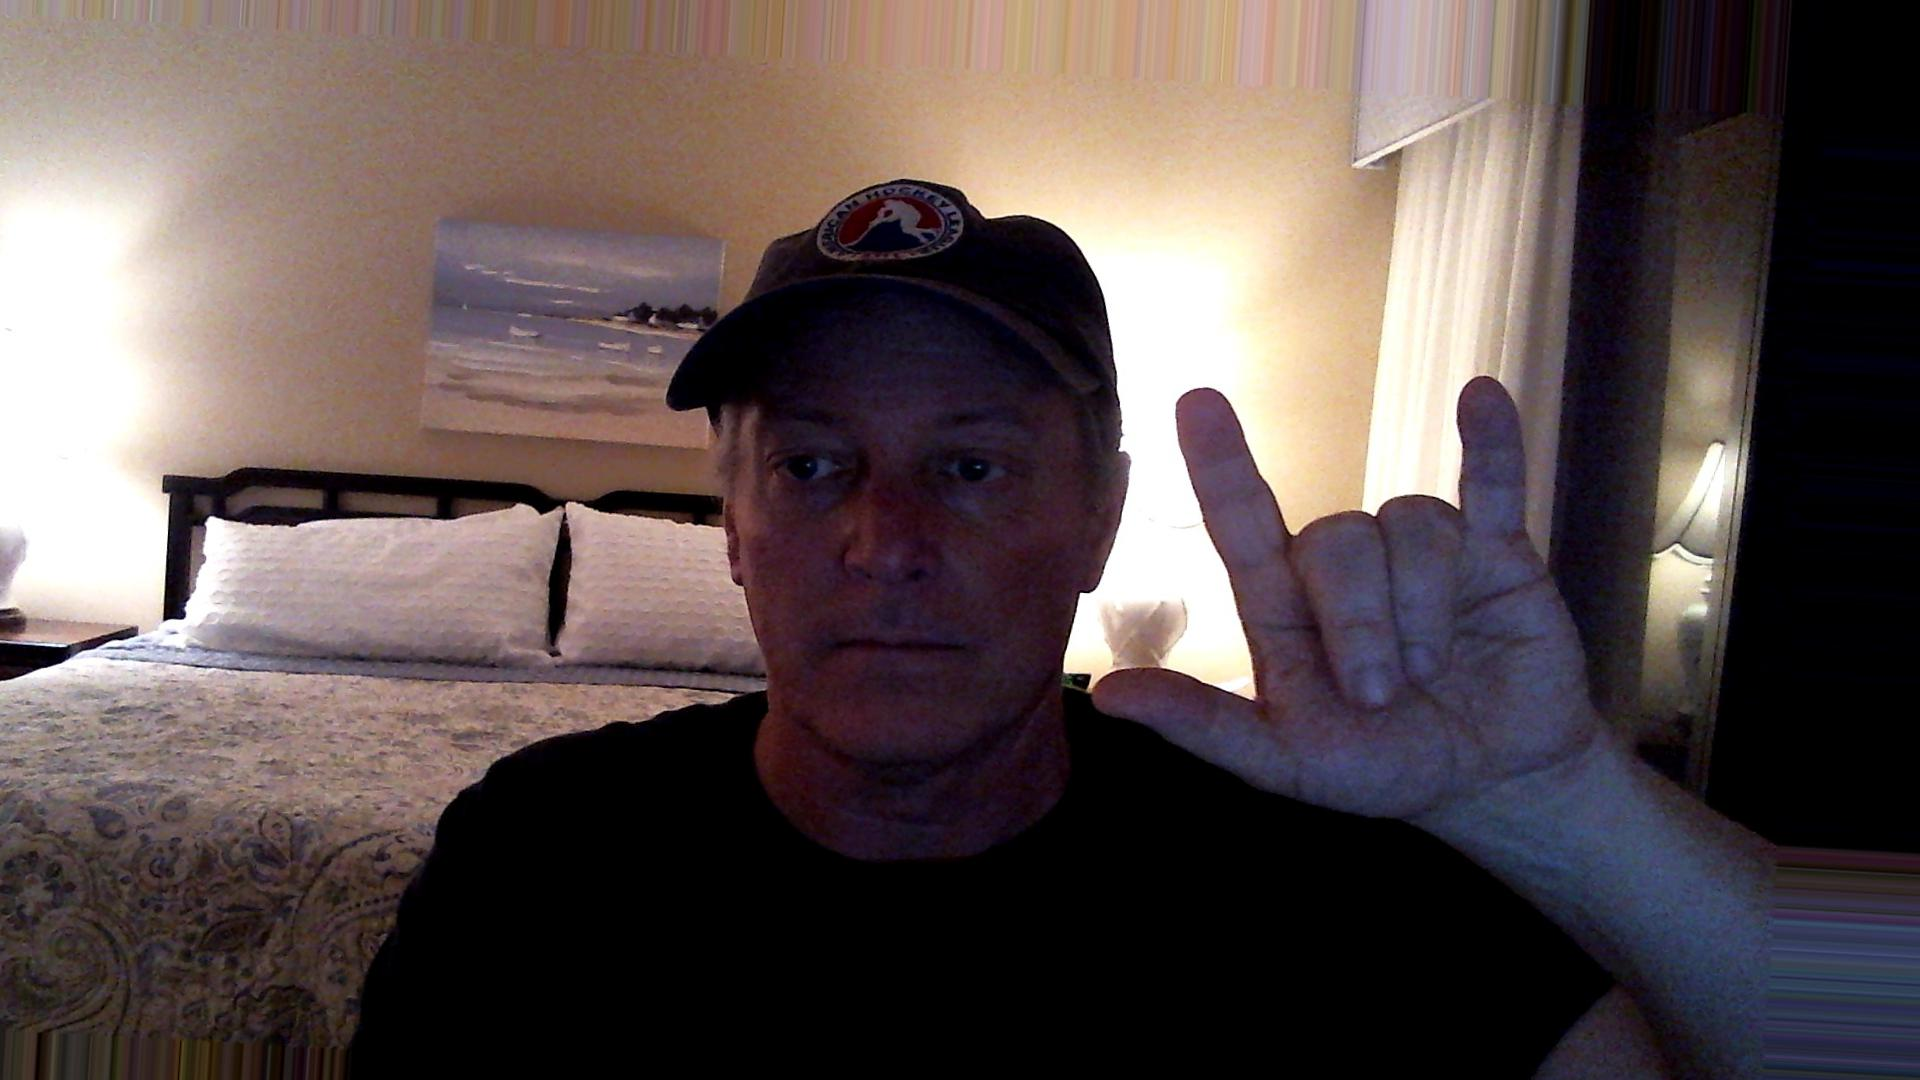I Love You: (1075, 363, 1615, 825)
